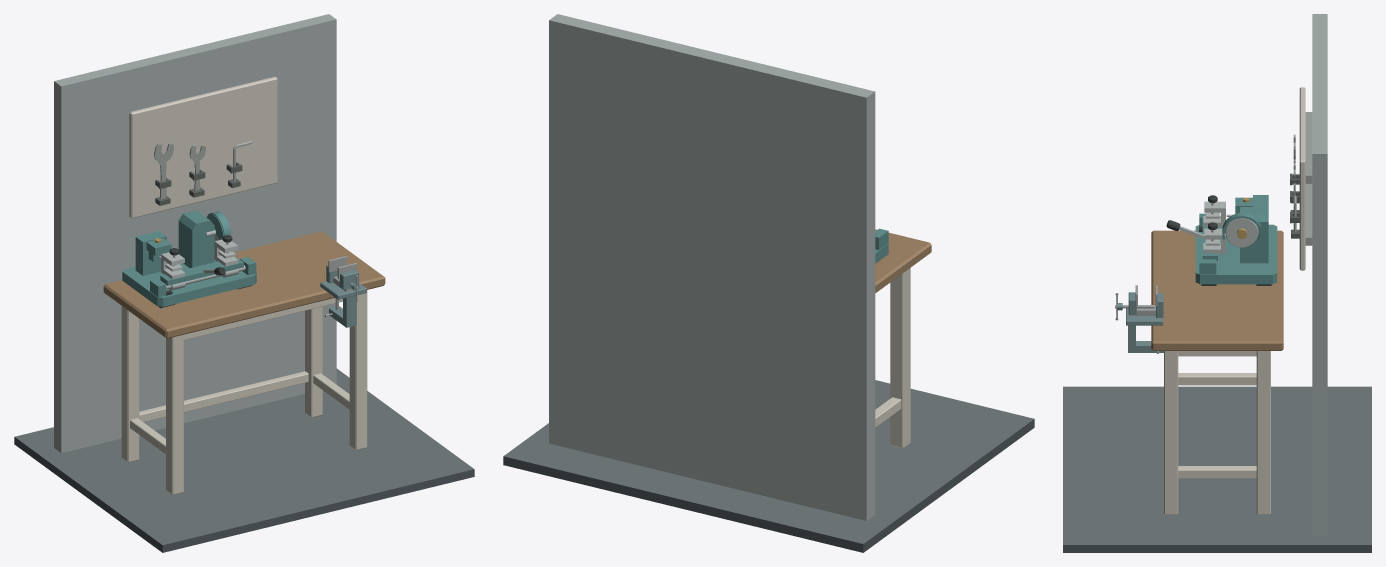
The picture shows the model from 3 angles, left to right: view 1: azimuth 30°, elevation 25°; view 2: azimuth 150°, elevation 25°; view 3: azimuth 270°, elevation 25°; orthographic projection. The views are drawn at different scales.
Visible parts, largest first — view 1: SCENE_ONLY__ServiceBenchFloorAndWall, toolwall__Continuous tool backing panel, table__Complete work surface, table__Worktable leg, table__Worktable leg.002, table__Worktable leg.001, machine__WholeChamferedLowMachineBase, table__Rear lower brace, table__Worktable leg.003, machine__WholeRightElevatedDriveCase, machine__WholeLeftTracingBracket, table__Upper long apron (+4 smaller); view 2: SCENE_ONLY__ServiceBenchFloorAndWall, table__Worktable leg, table__Complete work surface; view 3: SCENE_ONLY__ServiceBenchFloorAndWall, table__Complete work surface, machine__WholeChamferedLowMachineBase, table__Worktable leg.002, table__Worktable leg.003, toolwall__Continuous tool backing panel, machine__WholeRightElevatedDriveCase, table__Side lower stretcher, table__Side lower stretcher.001, machine__WholeBluntAnnularDisplayDisk, toolwall__Wall mounting cleat 0.43, toolwall__Wall mounting cleat 0.12 (+5 smaller).
Boxes of the visible parts, x1,y1,x2,y2 form: SCENE_ONLY__ServiceBenchFloorAndWall: (14,14,474,552); toolwall__Continuous tool backing panel: (129,76,277,218); table__Complete work surface: (103,231,385,338); table__Worktable leg: (166,334,183,494); table__Worktable leg.002: (349,290,367,449); table__Worktable leg.001: (121,306,139,462); machine__WholeChamferedLowMachineBase: (122,260,256,306); table__Rear lower brace: (139,371,308,422); table__Worktable leg.003: (305,306,322,417); machine__WholeRightElevatedDriveCase: (178,210,214,268); machine__WholeLeftTracingBracket: (135,231,171,275); table__Upper long apron: (184,298,342,340); SCENE_ONLY__ServiceBenchFloorAndWall: (503,14,1034,552); table__Worktable leg: (890,268,910,448); table__Complete work surface: (875,229,931,292); SCENE_ONLY__ServiceBenchFloorAndWall: (1063,14,1371,552); table__Complete work surface: (1151,230,1283,350); machine__WholeChamferedLowMachineBase: (1195,224,1277,284); table__Worktable leg.002: (1164,351,1178,514); table__Worktable leg.003: (1256,351,1270,514); toolwall__Continuous tool backing panel: (1299,87,1305,270); machine__WholeRightElevatedDriveCase: (1240,207,1268,263); table__Side lower stretcher: (1178,373,1256,385); table__Side lower stretcher.001: (1178,466,1256,478); machine__WholeBluntAnnularDisplayDisk: (1225,218,1258,247); toolwall__Wall mounting cleat 0.43: (1305,112,1312,183); toolwall__Wall mounting cleat 0.12: (1305,183,1312,245).
Size of the model in its own units: 1.7 by 1.95 by 1.4.
